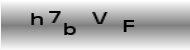7: (48, 10, 61, 23)
F: (122, 19, 135, 32)
V: (91, 10, 108, 24)
b: (62, 22, 76, 35)
h: (30, 12, 44, 25)
